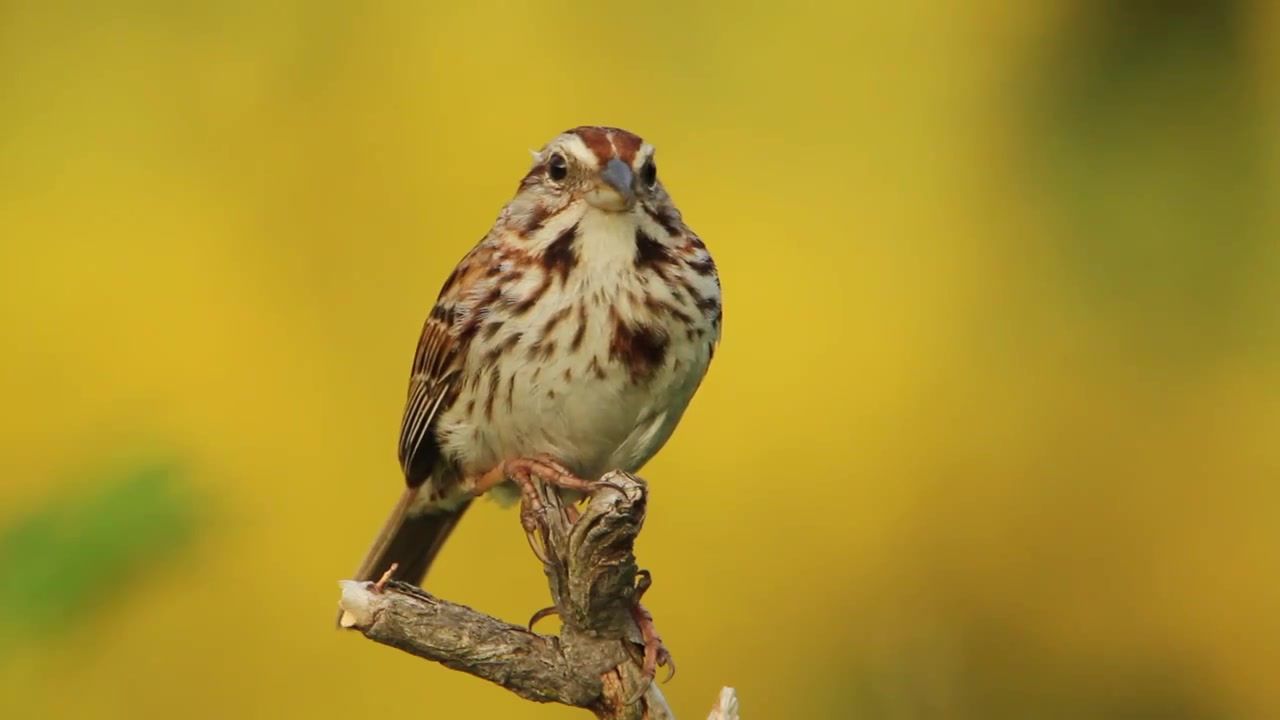bird: (338, 125, 726, 705)
